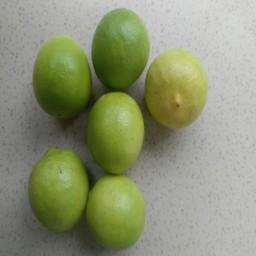Good_lime: (144, 46, 211, 129), (26, 144, 88, 233), (29, 34, 92, 119), (89, 6, 150, 89), (86, 89, 144, 173), (85, 173, 145, 252)
